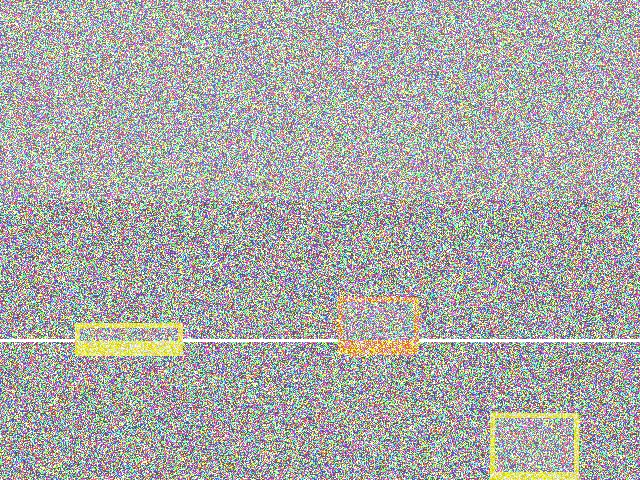truck: (60, 231, 183, 282)
